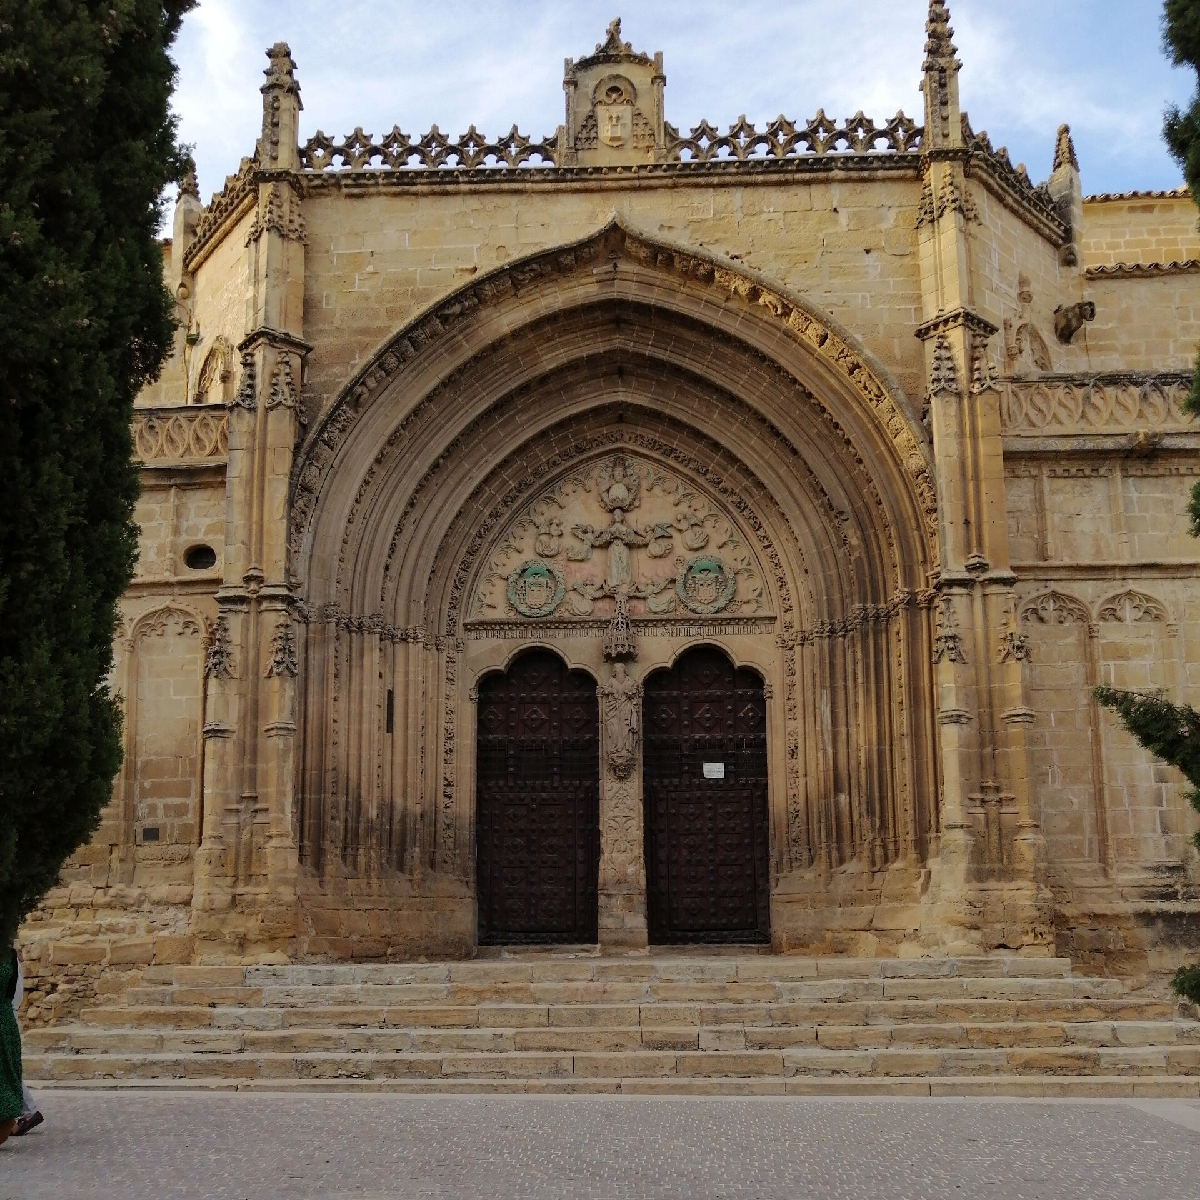arco-apuntado: (371, 286, 849, 610)
arco-conopial: (454, 205, 756, 286)
arco-trilobulado: (633, 632, 770, 704), (464, 638, 601, 709)
